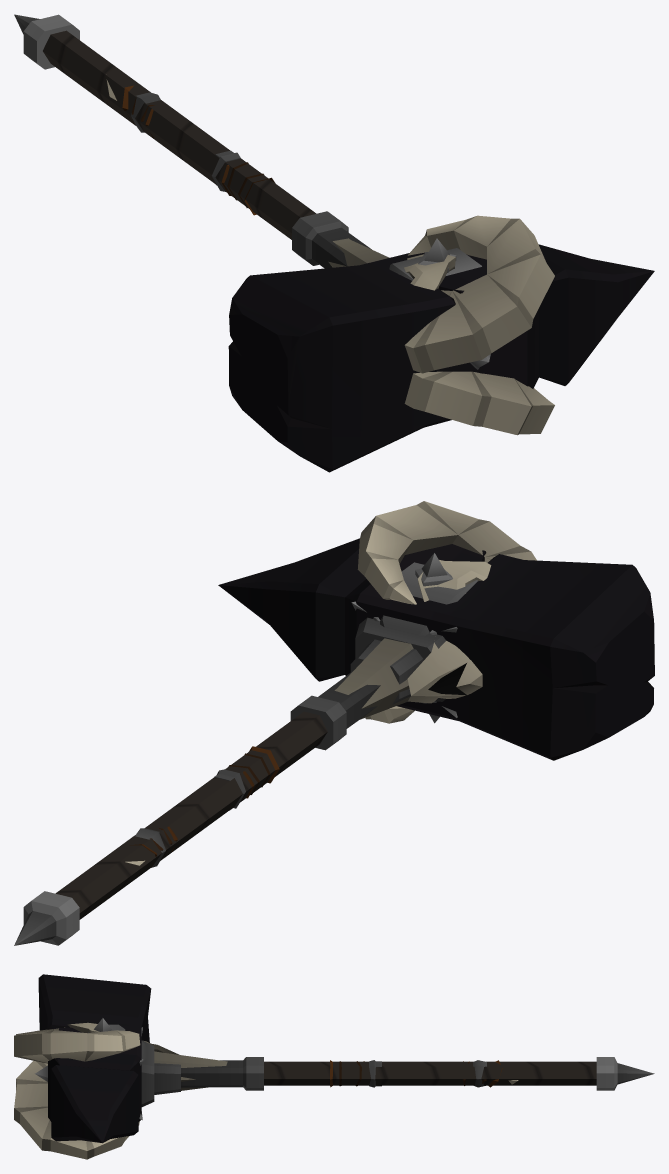
File: ogre_arms.glb
The picture shows the model from 3 angles, top to bottom: view 1: azimuth 30°, elevation 25°; view 2: azimuth 150°, elevation 25°; view 3: azimuth 270°, elevation 25°; orthographic projection. The views are drawn at different scales.
Visible parts, largest first — view 1: GreatHammer, BoneMace, MorningStar; view 2: GreatHammer, BoneMace, MorningStar; view 3: GreatHammer, BoneMace, MorningStar.
Boxes of the visible parts, bbox=[...] form: GreatHammer: bbox=[14, 14, 654, 472]; BoneMace: bbox=[106, 79, 554, 435]; MorningStar: bbox=[131, 92, 490, 369]; GreatHammer: bbox=[14, 538, 654, 945]; BoneMace: bbox=[125, 501, 536, 866]; MorningStar: bbox=[135, 553, 477, 867]; GreatHammer: bbox=[38, 974, 654, 1143]; BoneMace: bbox=[14, 1022, 518, 1159]; MorningStar: bbox=[35, 1018, 486, 1120].
Bounding box in the file's own units: 0.5893 × 0.2709 × 1.24.
3 materials, 3 textured.
